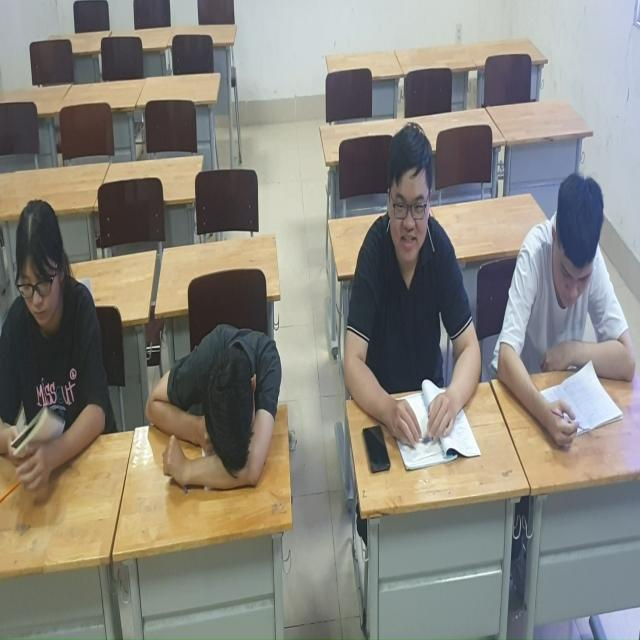sleep: (145, 326, 283, 493)
study: (342, 125, 484, 478), (504, 172, 635, 453), (0, 201, 114, 509)
